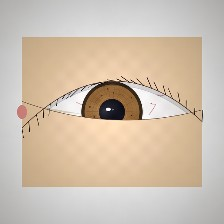pterygium_lesion: (20, 85, 88, 139)
